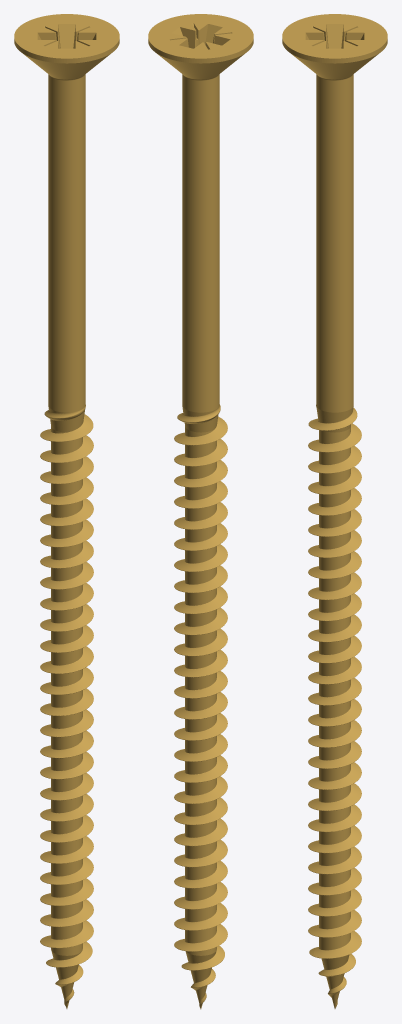
Rendered from model_full.glb.
3 renders of one model, left to right at view 1: azimuth 90°, elevation 25°; view 2: azimuth 150°, elevation 25°; view 3: azimuth 270°, elevation 25°, orthographic.
Parts seen in each view (by area): view 1: geometry_0; view 2: geometry_0; view 3: geometry_0.
Part boxes in pixels (left/top/right/bottom): geometry_0: left=14, top=14, right=119, bottom=1008; geometry_0: left=148, top=14, right=253, bottom=1009; geometry_0: left=282, top=14, right=387, bottom=1008.
Size of the model in its own units: 0.0118 by 0.12 by 0.0118.
